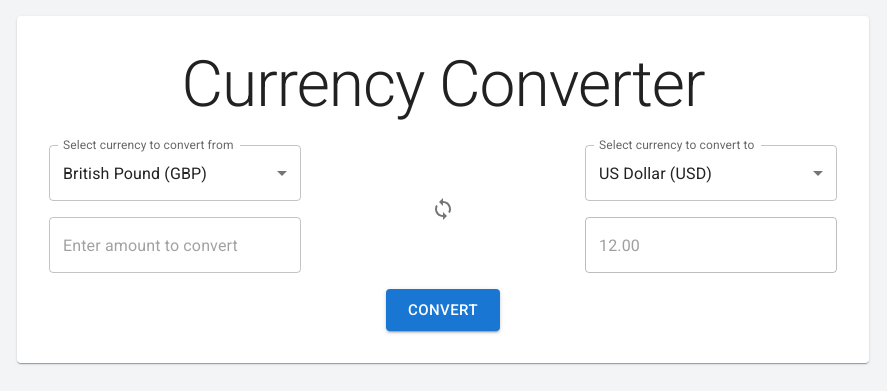
Test: CurrencyConverter › disables the correct options in dropdowns
Expected: the element with test id "from-currency-dropdown" holds "GBP", left=49, top=145, right=301, bottom=201
Expected: the element with test id "to-currency-dropdown" holds "USD", left=585, top=145, right=837, bottom=201
Press the mouse on the dropdown named "Select currency to convert from" at (135, 173), box left=63, top=164, right=207, bottom=183
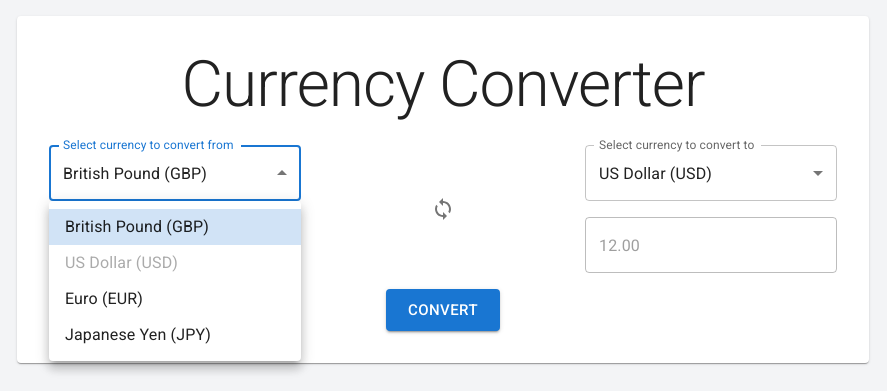
Expected: the number of options is 4, left=49, top=209, right=301, bottom=245; left=65, top=253, right=178, bottom=272; left=65, top=289, right=143, bottom=308; left=65, top=325, right=211, bottom=344
Expected: the option "US Dollar (USD)" is shown, left=65, top=253, right=178, bottom=272
